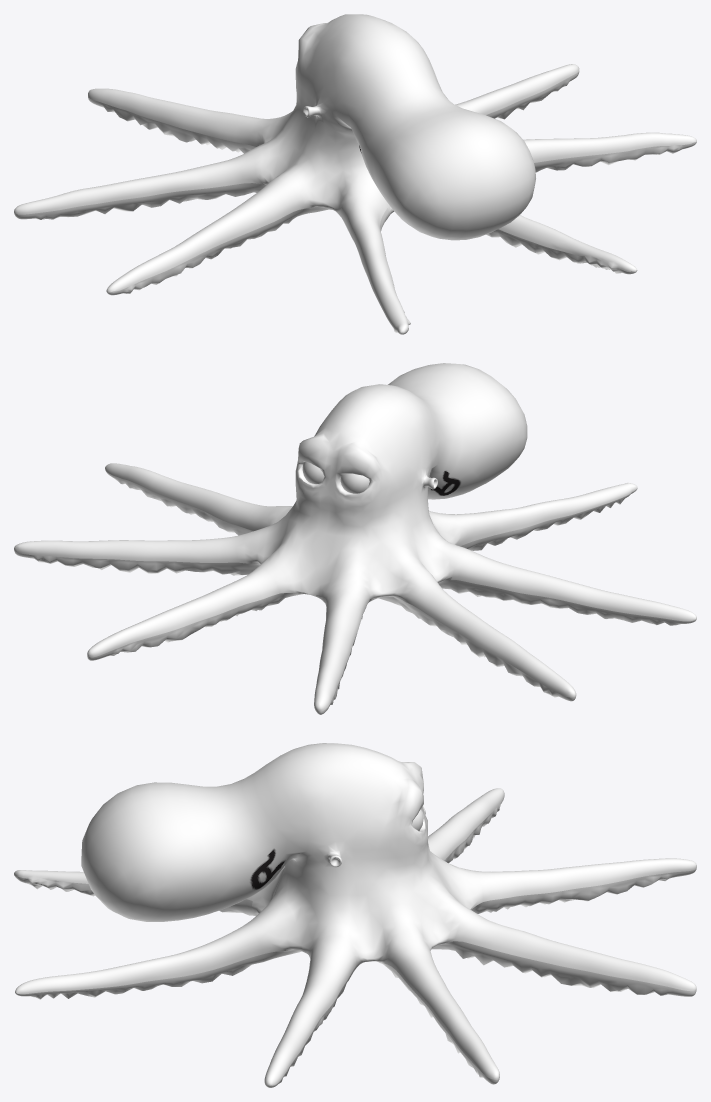
File: Octopus.glb
The picture shows the model from 3 angles, top to bottom: view 1: azimuth 30°, elevation 25°; view 2: azimuth 150°, elevation 25°; view 3: azimuth 270°, elevation 25°; orthographic projection. The views are drawn at different scales.
Visible parts, largest first — view 1: Body, Bottom; view 2: Body, Bottom, EyeBals; view 3: Body, Bottom.
Boxes of the visible parts, x1,y1,x2,y2 form: Body: [14, 14, 696, 333]; Bottom: [14, 71, 696, 334]; Body: [14, 363, 696, 711]; Bottom: [14, 471, 696, 714]; EyeBals: [302, 462, 369, 493]; Body: [14, 743, 696, 1085]; Bottom: [15, 799, 696, 1087].
Size of the model in its own units: 0.617 by 0.1876 by 0.5723.
1 material, 1 textured.
